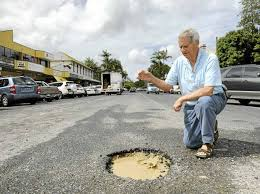pothole: (95, 142, 185, 185)
